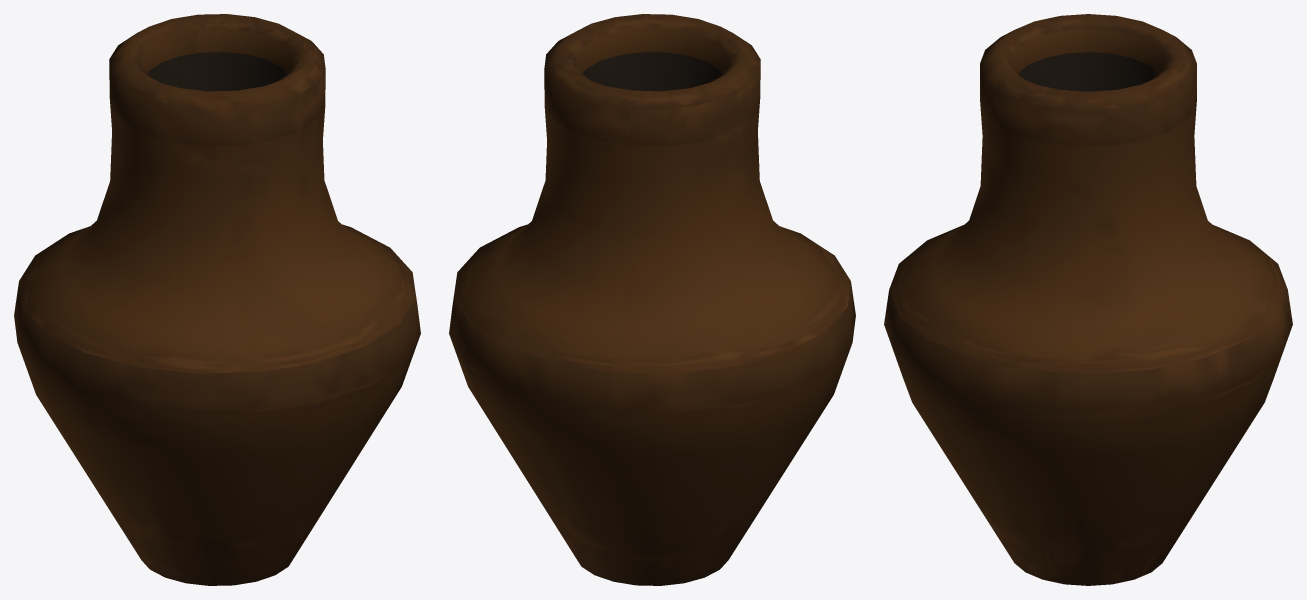
The model's file is Vase_4.glb.
3 renders of one model, left to right at view 1: azimuth 30°, elevation 25°; view 2: azimuth 150°, elevation 25°; view 3: azimuth 270°, elevation 25°, orthographic.
Parts seen in each view (by area): view 1: Vase_4; view 2: Vase_4; view 3: Vase_4.
Part boxes in pixels (box(x1,y1,x2,y2)): Vase_4: box(14, 14, 420, 585); Vase_4: box(449, 14, 855, 585); Vase_4: box(884, 14, 1292, 585).
Size of the model in its own units: 0.3596 by 0.4855 by 0.3596.
1 material, 1 textured.
